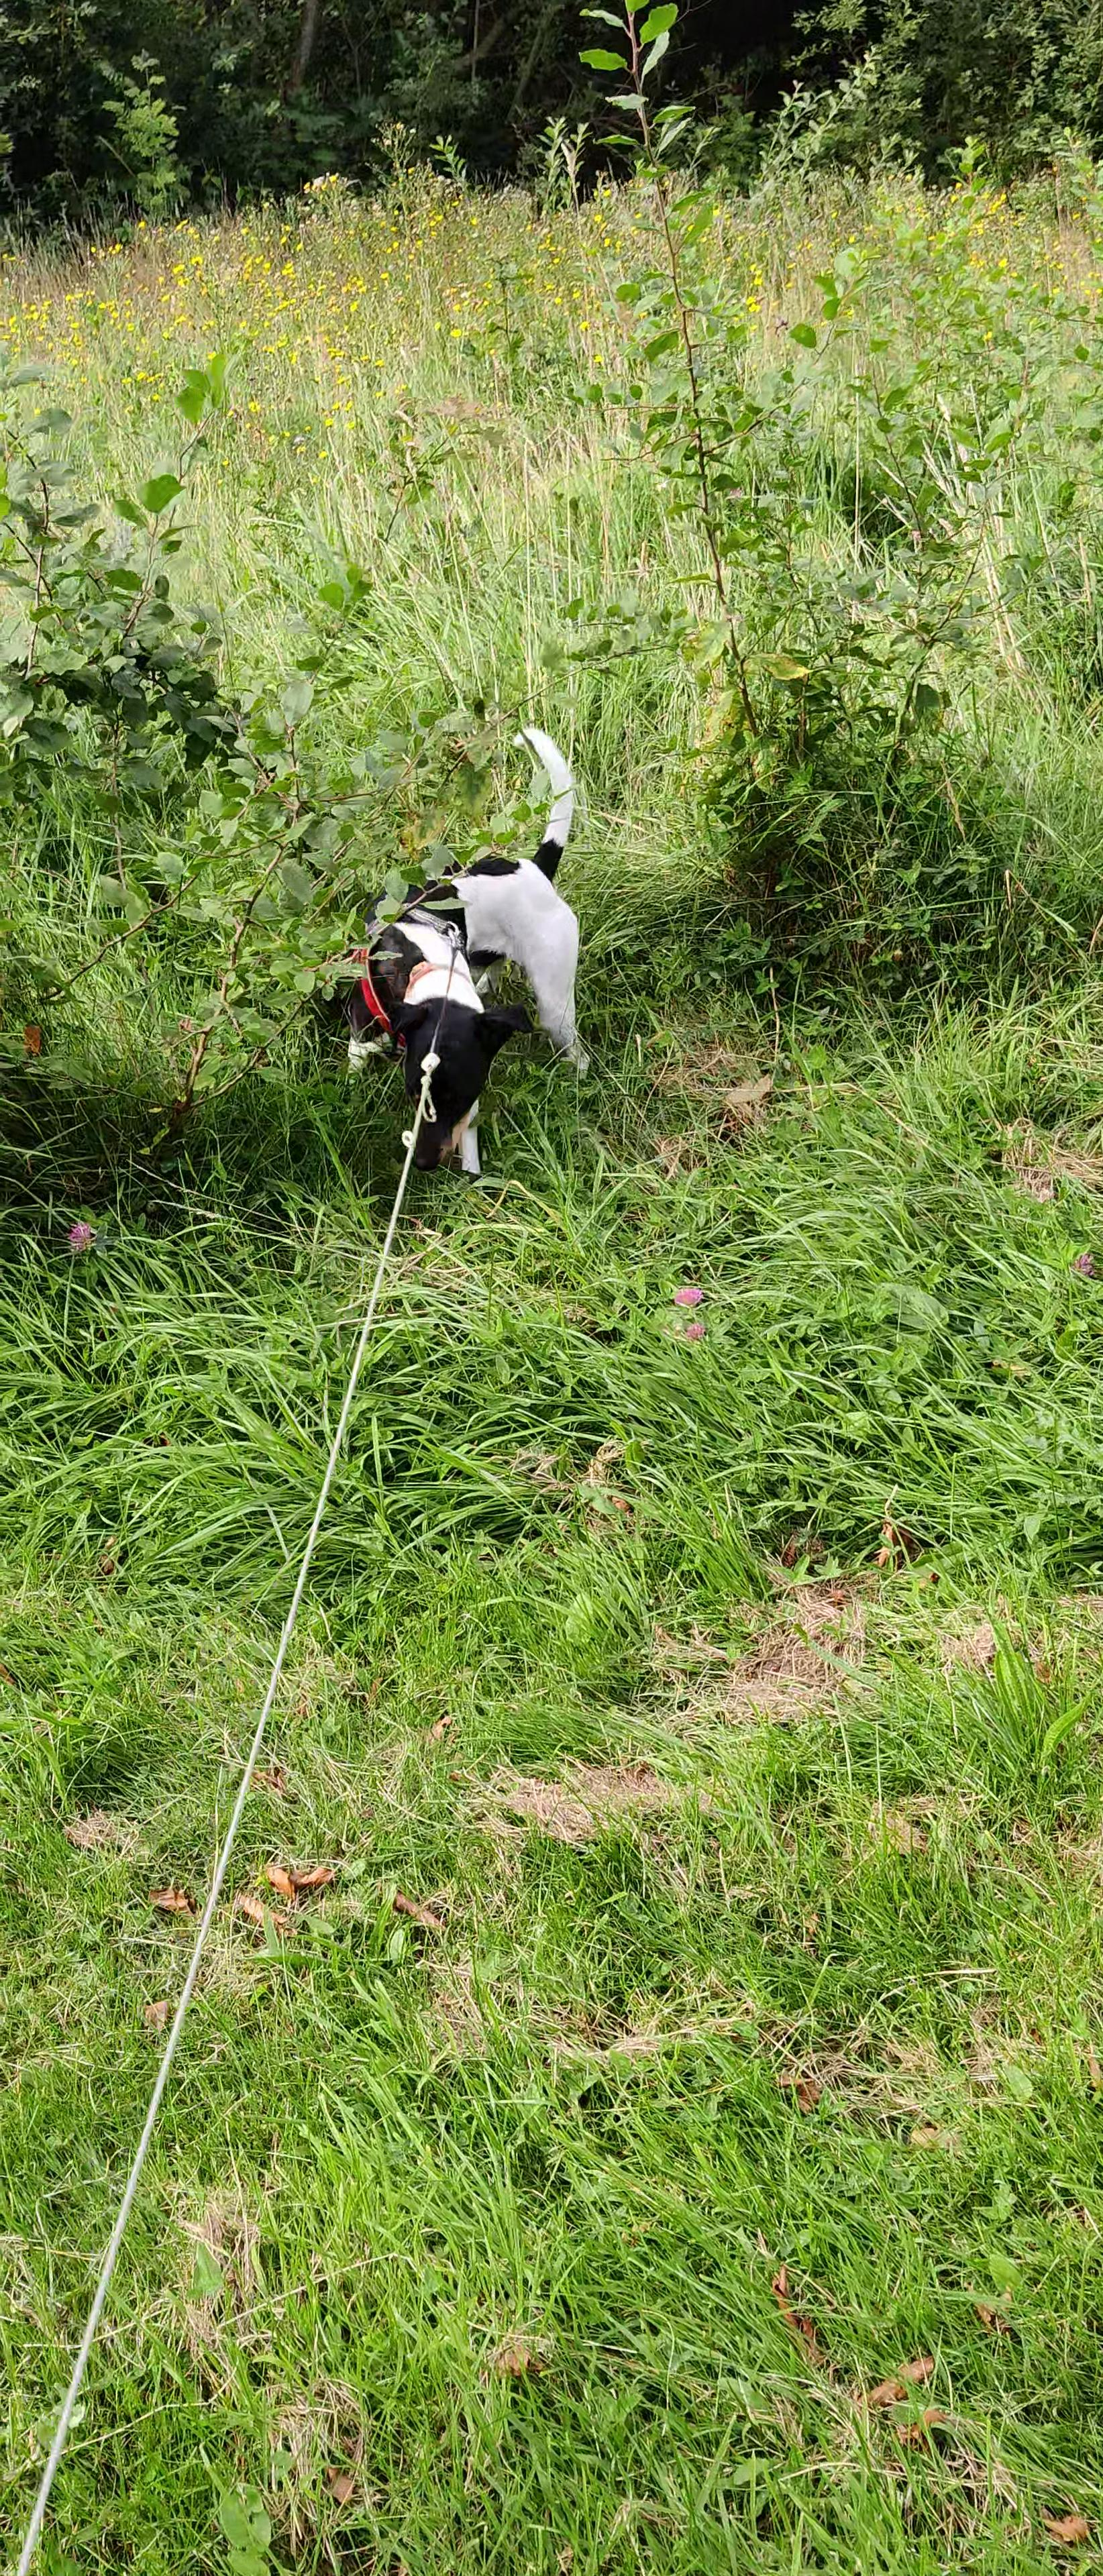Dog: (325, 723, 605, 1186)
